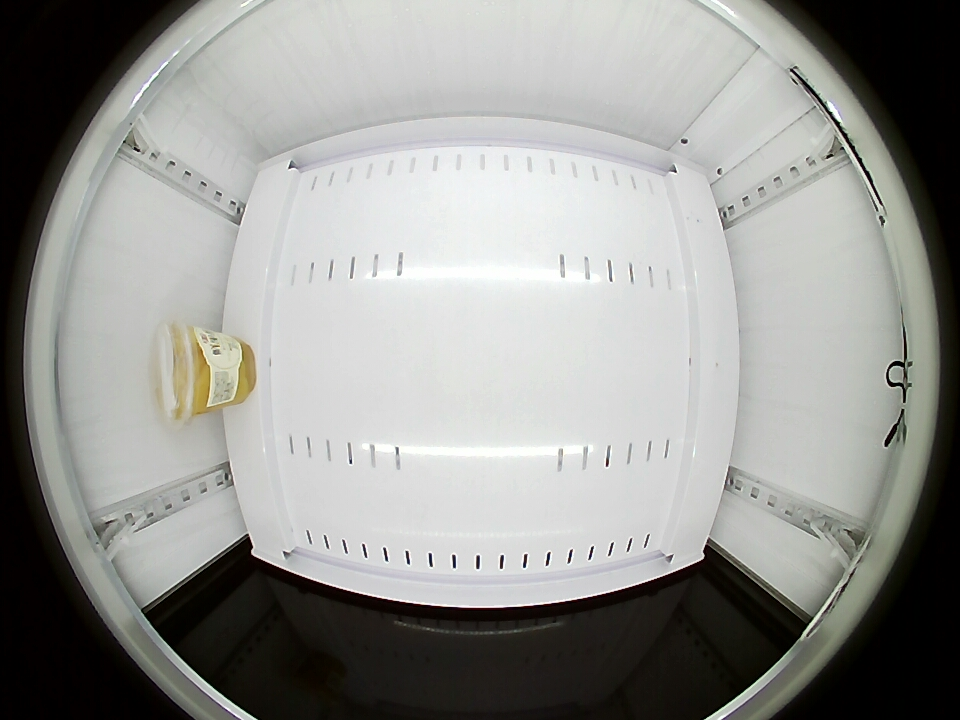xianguolao: (154, 320, 211, 426)
